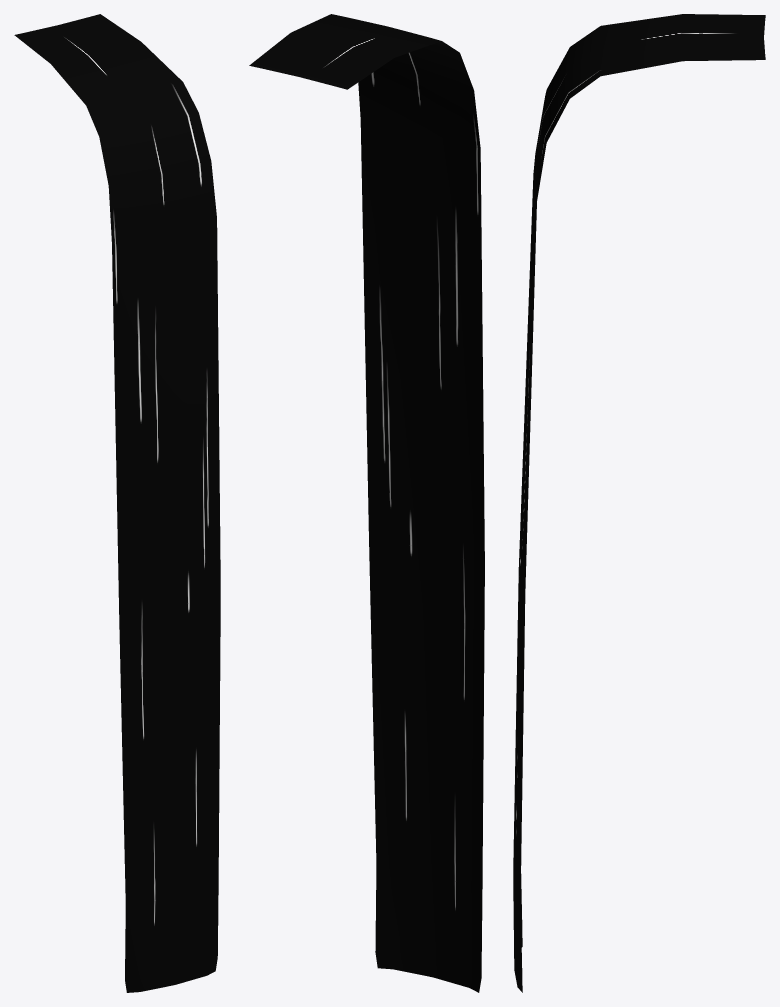
File: P_Sandfall02.obj
The picture shows the model from 3 angles, left to right: view 1: azimuth 30°, elevation 25°; view 2: azimuth 150°, elevation 25°; view 3: azimuth 270°, elevation 25°; orthographic projection. The views are drawn at different scales.
Size of the model in its own units: 2.27 by 18.07 by 4.44.
